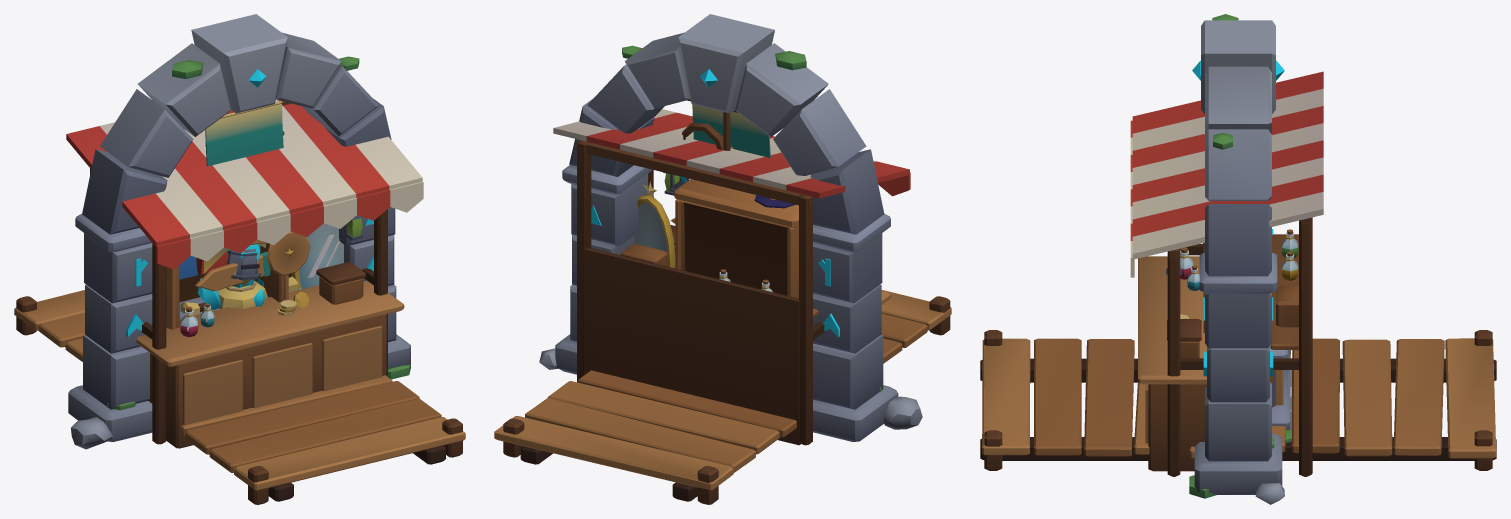
Rendered from props.glb.
3 views of the same model, side by side, from view 1: azimuth 30°, elevation 25°; view 2: azimuth 150°, elevation 25°; view 3: azimuth 270°, elevation 25° (orthographic). The views are drawn at different scales.
Visible parts, largest first — view 1: shop_stall, portal_arch, bridge_plank, wardrobe, banner, dummy, signpost, altar; view 2: portal_arch, shop_stall, bridge_plank, wardrobe, banner, lantern_post; view 3: bridge_plank, shop_stall, portal_arch, altar.
Boxes of the visible parts, <box> form: shop_stall: <box>66,99,423,448</box>; portal_arch: <box>68,14,410,449</box>; bridge_plank: <box>14,290,465,504</box>; wardrobe: <box>166,223,343,329</box>; banner: <box>203,101,293,273</box>; dummy: <box>180,249,298,315</box>; signpost: <box>195,239,270,291</box>; altar: <box>179,244,301,318</box>; portal_arch: <box>539,14,922,441</box>; shop_stall: <box>553,109,910,445</box>; bridge_plank: <box>494,290,951,504</box>; wardrobe: <box>634,179,814,343</box>; banner: <box>687,99,770,157</box>; lantern_post: <box>669,123,723,191</box>; bridge_plank: <box>980,330,1496,470</box>; shop_stall: <box>1130,71,1323,476</box>; portal_arch: <box>1189,14,1284,504</box>; altar: <box>1270,345,1291,443</box>.
Bounding box in the file's own units: 3.3 × 3.3 × 4.
